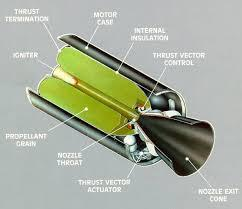thruster: (133, 111, 214, 178)
